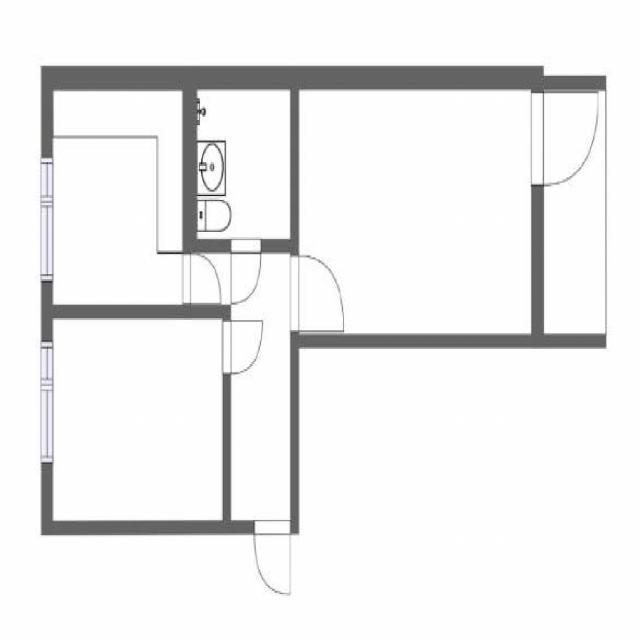door: (530, 94, 602, 185), (290, 258, 346, 330), (253, 520, 289, 589), (223, 322, 264, 373), (183, 255, 223, 303), (231, 238, 261, 299)
